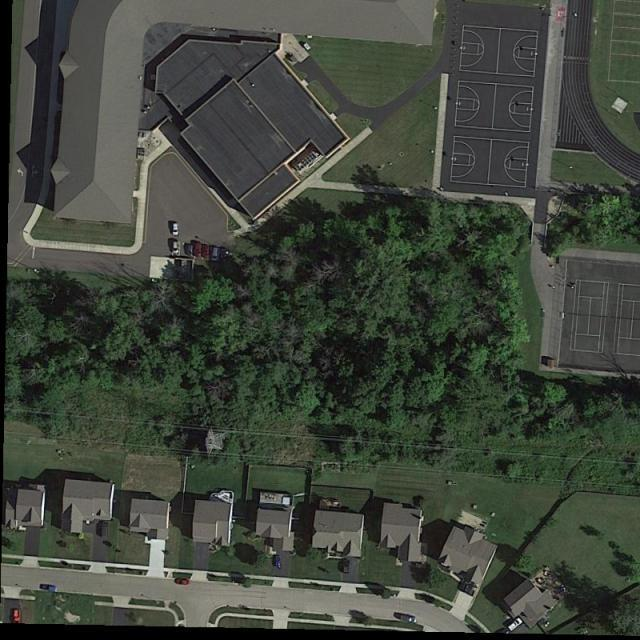vehicle: (507, 617, 524, 633), (39, 583, 58, 593), (401, 614, 418, 625), (467, 583, 479, 598), (174, 578, 190, 586), (202, 246, 210, 261), (211, 247, 219, 261), (194, 243, 202, 257), (274, 556, 282, 569), (172, 240, 179, 254), (221, 247, 227, 262), (186, 245, 194, 256), (173, 222, 179, 236)
